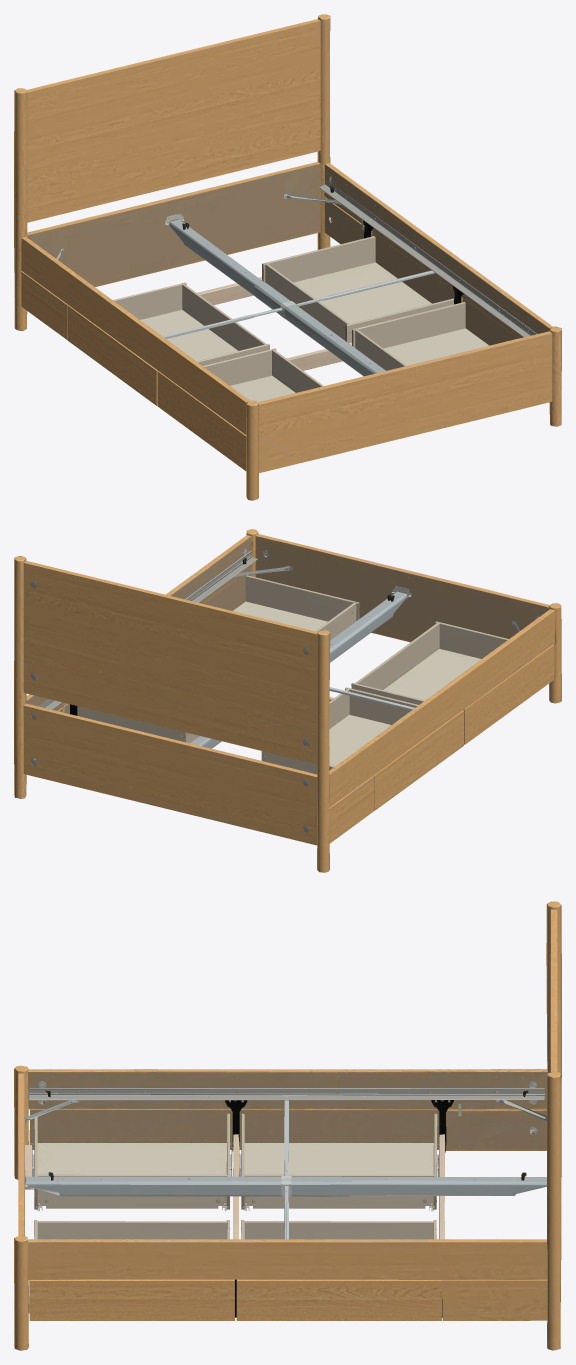
3 renders of one model, top to bottom at view 1: azimuth 30°, elevation 25°; view 2: azimuth 150°, elevation 25°; view 3: azimuth 270°, elevation 25°, orthographic. The views are drawn at different scales.
Visible parts, largest first — view 1: base_bedsize; view 2: base_bedsize; view 3: base_bedsize.
Boxes of the visible parts, <box> form: base_bedsize: <box>14,14,561,500</box>; base_bedsize: <box>14,529,561,872</box>; base_bedsize: <box>14,901,561,1350</box>.
Bounding box in the file's own units: 1.61 × 1.17 × 2.1.
7 materials, 7 textured.
